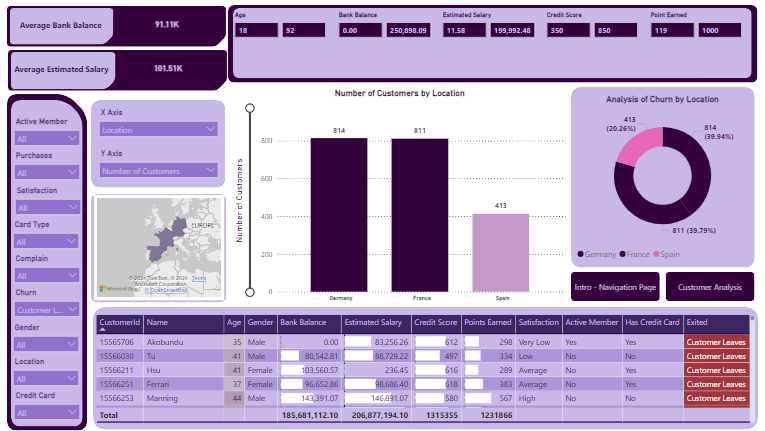

Layout of this report page (visuals, bound fields, positions):
{"tool":"powerbi","page":{"name":"Main Dashboard","canvas":[1280,720],"ordinal":1},"visuals":[{"type":"shape","box":[0,151.1,135.5,568.9],"z":1000},{"type":"shape","box":[145.9,510.6,1124.1,207.4],"z":2000},{"type":"shape","box":[7.1,160.9,121.4,552],"z":3000},{"type":"shape","box":[0,1,370.4,68.7],"z":4000,"group":"g1"},{"type":"shape","box":[142.6,160.9,227.3,148.2],"z":4000},{"type":"shape","box":[5.8,4.6,174.6,61.6],"z":5000,"group":"g1"},{"type":"tableEx","fields":{"Values":["Customer-Churn-Records.CustomerId","Customer-Churn-Records.Surname","Customer-Churn-Records.Age","Customer-Churn-Records.Gender","Sum(Customer-Churn-Records.Balance)","Sum(Customer-Churn-Records.EstimatedSalary)","Sum(Customer-Churn-Records.CreditScore)","Sum(Customer-Churn-Records.Point Earned)","Customer-Churn-Records.Satisfaction Score","Customer-Churn-Records.IsActiveMember","Customer-Churn-Records.HasCrCard","Customer-Churn-Records.Exited"]},"box":[145.9,519.2,1124.1,191.6],"z":5000},{"type":"shape","box":[142.6,319.1,228.7,183.5],"z":6000},{"type":"textbox","box":[0,19.6,181.5,28.6],"z":7000,"group":"g1"},{"type":"filledMap","fields":{"Category":["Customer-Churn-Records.Geography"]},"box":[146.8,321.9,220.2,177.9],"z":7000},{"type":"card","fields":{"Values":["Avg(Customer-Churn-Records.Balance)"]},"box":[180.7,5.9,179.1,54.2],"z":8000,"group":"g1"},{"type":"columnChart","fields":{"Category":["Customer-Churn-Records.Complain"],"Y":["Measures Table.Balance_Measure"]},"box":[378.4,139.8,570.4,371.3],"z":8000},{"type":"shape","box":[374.1,0,895.1,131.3],"z":9000},{"type":"shape","box":[1.6,75.3,370.4,68.7],"z":9000,"group":"g1"},{"type":"shape","box":[6.5,78.2,176.6,62.9],"z":10000,"group":"g1"},{"type":"slicer","fields":{"Values":["X Axis.X Axis"]},"box":[145.4,169.4,221.6,56.5],"z":10000},{"type":"textbox","box":[1.6,94,180.2,28.6],"z":11000,"group":"g1"},{"type":"slicer","fields":{"Values":["Y Axis.Y Axis"]},"box":[145.4,238.6,221.6,59.3],"z":11000},{"type":"shape","box":[381.2,5.6,876.7,118.6],"z":12000},{"type":"card","fields":{"Values":["Avg(Customer-Churn-Records.EstimatedSalary)"]},"box":[182.3,80.3,179.1,54.2],"z":12000,"group":"g1"},{"type":"slicer","fields":{"Values":["Customer-Churn-Records.Age"]},"box":[371.3,5.6,187.8,110.1],"z":13000},{"type":"slicer","fields":{"Values":["Customer-Churn-Records.Balance"]},"box":[547.4,5.6,187.8,110.1],"z":14000},{"type":"slicer","fields":{"Values":["Customer-Churn-Records.EstimatedSalary"]},"box":[723.5,5.6,187.8,110.1],"z":15000},{"type":"slicer","fields":{"Values":["Customer-Churn-Records.CreditScore"]},"box":[899.6,5.6,187.8,110.1],"z":16000},{"type":"slicer","fields":{"Values":["Customer-Churn-Records.Point Earned"]},"box":[1075.8,5.6,187.8,110.1],"z":17000},{"type":"shape","box":[952.9,138.4,310.6,304.9],"z":18000},{"type":"pageNavigator","box":[952.9,451.8,310.6,49.4],"z":19000},{"type":"donutChart","fields":{"Category":["Customer-Churn-Records.Complain"],"Y":["CountNonNull(Customer-Churn-Records.Exited)"]},"box":[958.6,151.1,299.3,289.4],"z":20000},{"type":"slicer","fields":{"Values":["Customer-Churn-Records.Card Type"]},"box":[0.3,357.5,131.6,61.5],"z":20000,"group":"g2"},{"type":"group","id":"g1","title":"Group 2","box":[0,1,372,143],"z":21000},{"type":"slicer","fields":{"Values":["Customer-Churn-Records.Complain"]},"box":[1.7,415.4,131.6,61.5],"z":21000,"group":"g2"},{"type":"group","id":"g2","title":"Group 3","box":[0.3,183.7,134.4,524.9],"z":22000},{"type":"slicer","fields":{"Values":["Customer-Churn-Records.Exited"]},"box":[2.1,473.3,131.6,61.5],"z":22000,"group":"g2"},{"type":"slicer","fields":{"Values":["Customer-Churn-Records.Gender"]},"box":[0.7,531.2,131.6,61.5],"z":23000,"group":"g2"},{"type":"slicer","fields":{"Values":["Customer-Churn-Records.Geography"]},"box":[1,589.2,131.6,61.5],"z":24000,"group":"g2"},{"type":"slicer","fields":{"Values":["Customer-Churn-Records.HasCrCard"]},"box":[1.4,647.1,131.6,61.5],"z":25000,"group":"g2"},{"type":"slicer","fields":{"Values":["Customer-Churn-Records.IsActiveMember"]},"box":[2.4,183.7,131.6,61.5],"z":26000,"group":"g2"},{"type":"slicer","fields":{"Values":["Customer-Churn-Records.NumOfProducts"]},"box":[2.8,241.6,131.6,61.5],"z":27000,"group":"g2"},{"type":"slicer","fields":{"Values":["Customer-Churn-Records.Satisfaction Score"]},"box":[3.2,299.5,131.6,61.5],"z":28000,"group":"g2"}]}

Visuals, with their boxes in screenshot pixels (x1, y1, x2, y2), scaled from the page's 1280x720 canvas onto the 765x431 screenshot:
shape: left=0, top=90, right=81, bottom=430
shape: left=87, top=306, right=759, bottom=430
shape: left=4, top=96, right=77, bottom=427
shape: left=0, top=1, right=221, bottom=42
shape: left=85, top=96, right=221, bottom=185
shape: left=3, top=3, right=108, bottom=40
tableEx - Customer-Churn-Records.CustomerId x Customer-Churn-Records.Surname: left=87, top=311, right=759, bottom=425
shape: left=85, top=191, right=222, bottom=301
textbox: left=0, top=12, right=108, bottom=29
filledMap - Customer-Churn-Records.Geography: left=88, top=193, right=219, bottom=299
card - Avg(Customer-Churn-Records.Balance): left=108, top=4, right=215, bottom=36
columnChart - Customer-Churn-Records.Complain x Measures Table.Balance_Measure: left=226, top=84, right=567, bottom=306
shape: left=224, top=0, right=759, bottom=79
shape: left=1, top=45, right=222, bottom=86
shape: left=4, top=47, right=109, bottom=84
slicer - X Axis.X Axis: left=87, top=101, right=219, bottom=135
textbox: left=1, top=56, right=109, bottom=73
slicer - Y Axis.Y Axis: left=87, top=143, right=219, bottom=178
shape: left=228, top=3, right=752, bottom=74
card - Avg(Customer-Churn-Records.EstimatedSalary): left=109, top=48, right=216, bottom=81
slicer - Customer-Churn-Records.Age: left=222, top=3, right=334, bottom=69
slicer - Customer-Churn-Records.Balance: left=327, top=3, right=439, bottom=69
slicer - Customer-Churn-Records.EstimatedSalary: left=432, top=3, right=545, bottom=69
slicer - Customer-Churn-Records.CreditScore: left=538, top=3, right=650, bottom=69
slicer - Customer-Churn-Records.Point Earned: left=643, top=3, right=755, bottom=69
shape: left=570, top=83, right=755, bottom=265
pageNavigator: left=570, top=270, right=755, bottom=300
donutChart - Customer-Churn-Records.Complain x CountNonNull(Customer-Churn-Records.Exited): left=573, top=90, right=752, bottom=264
slicer - Customer-Churn-Records.Card Type: left=0, top=214, right=79, bottom=251
"Group 2" group: left=0, top=1, right=222, bottom=86
slicer - Customer-Churn-Records.Complain: left=1, top=249, right=80, bottom=285
"Group 3" group: left=0, top=110, right=81, bottom=424
slicer - Customer-Churn-Records.Exited: left=1, top=283, right=80, bottom=320
slicer - Customer-Churn-Records.Gender: left=0, top=318, right=79, bottom=355
slicer - Customer-Churn-Records.Geography: left=1, top=353, right=79, bottom=390
slicer - Customer-Churn-Records.HasCrCard: left=1, top=387, right=79, bottom=424
slicer - Customer-Churn-Records.IsActiveMember: left=1, top=110, right=80, bottom=147
slicer - Customer-Churn-Records.NumOfProducts: left=2, top=145, right=80, bottom=181
slicer - Customer-Churn-Records.Satisfaction Score: left=2, top=179, right=81, bottom=216
